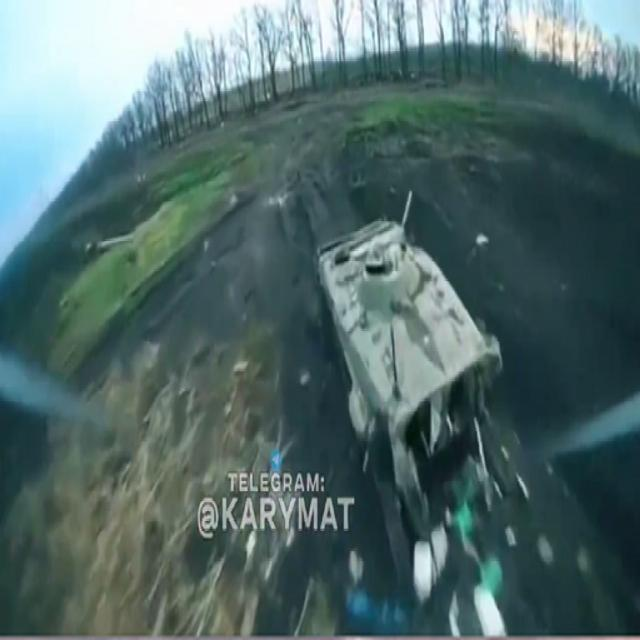APC-IFV: (306, 198, 499, 498)
